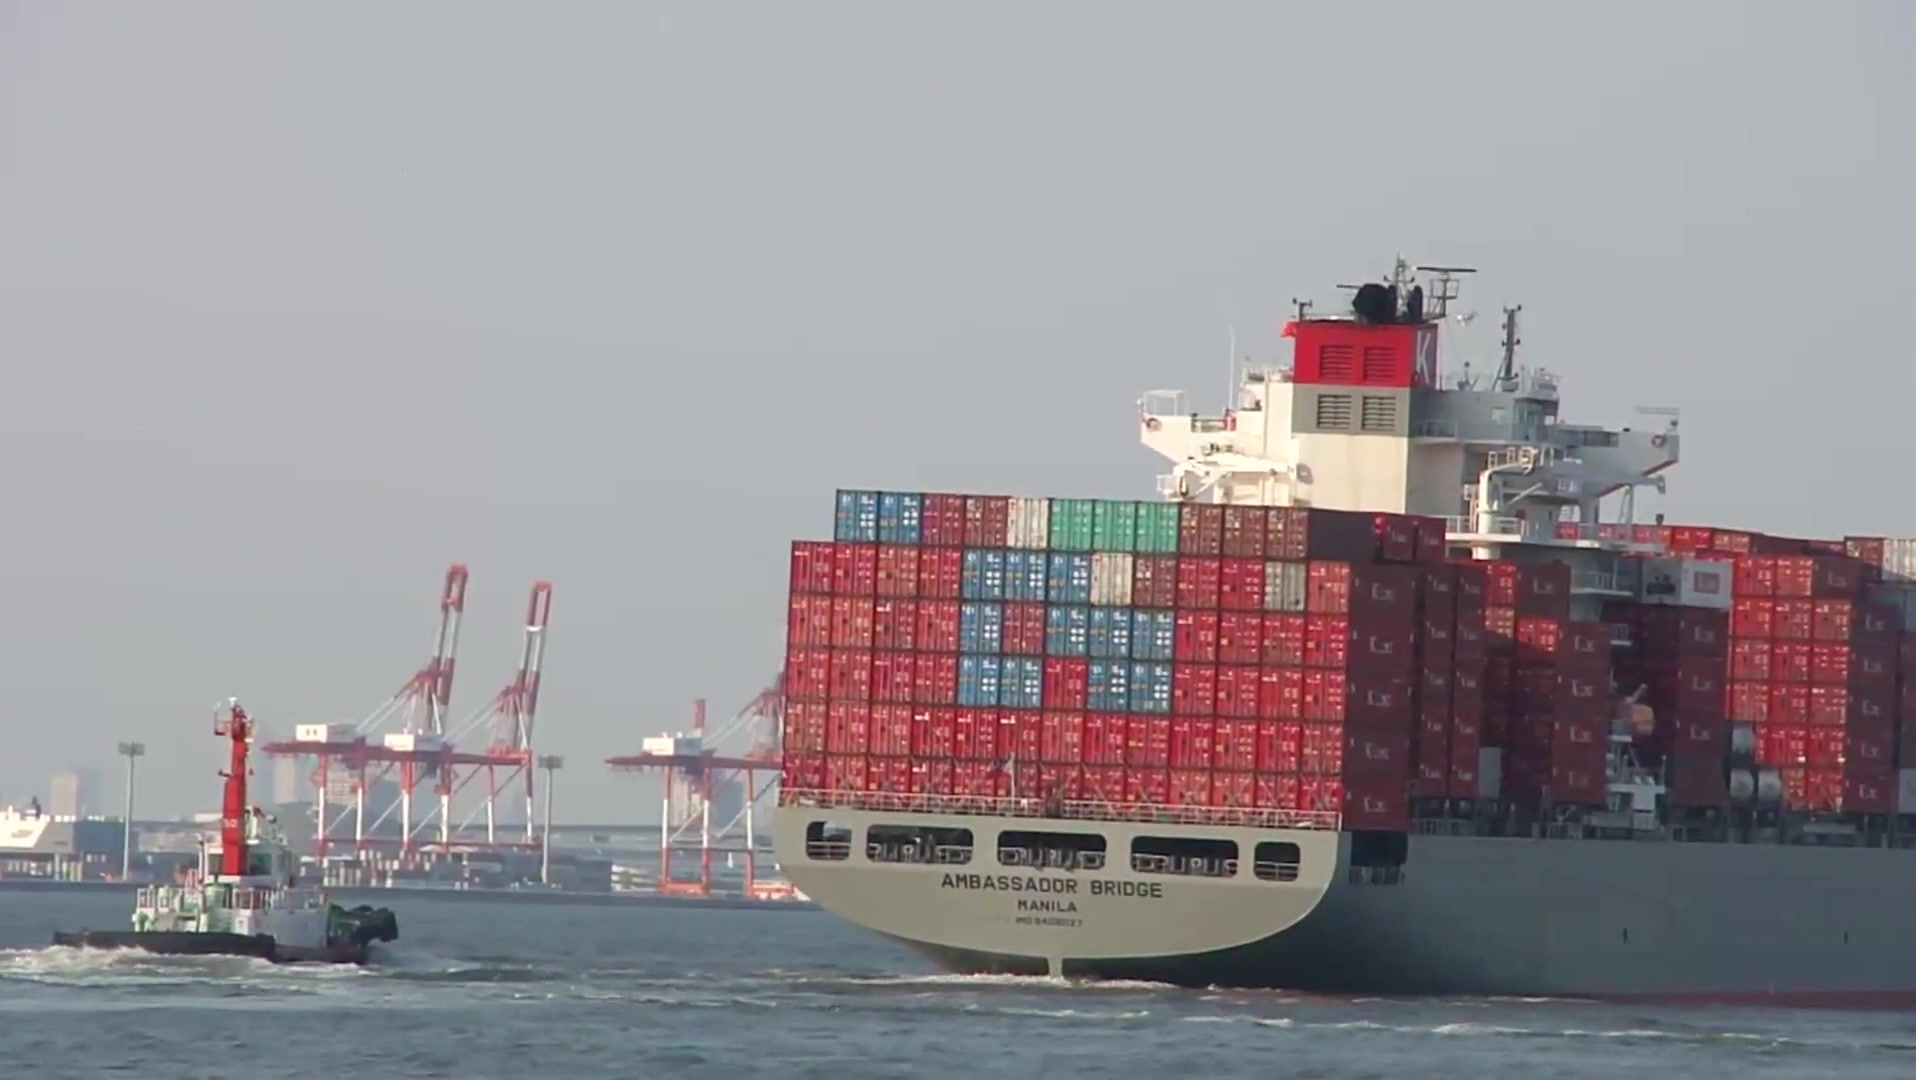boat: (762, 263, 1916, 1012), (53, 697, 404, 973)
